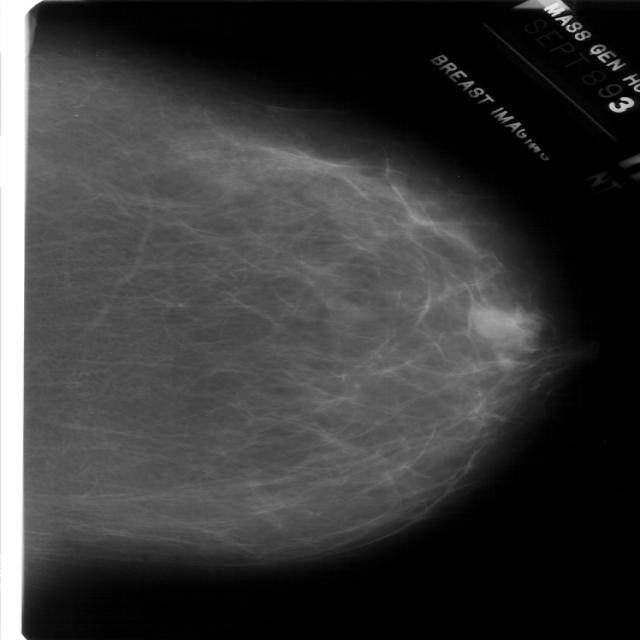tumour: (468, 305, 514, 337)
